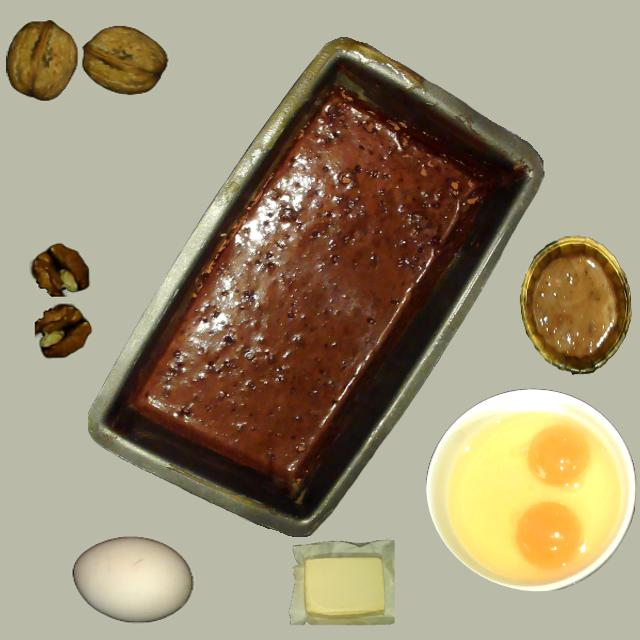Egg: (452, 415, 614, 577), (515, 502, 582, 568), (528, 426, 590, 486)
Walnut: (82, 25, 166, 95), (6, 20, 78, 100)
